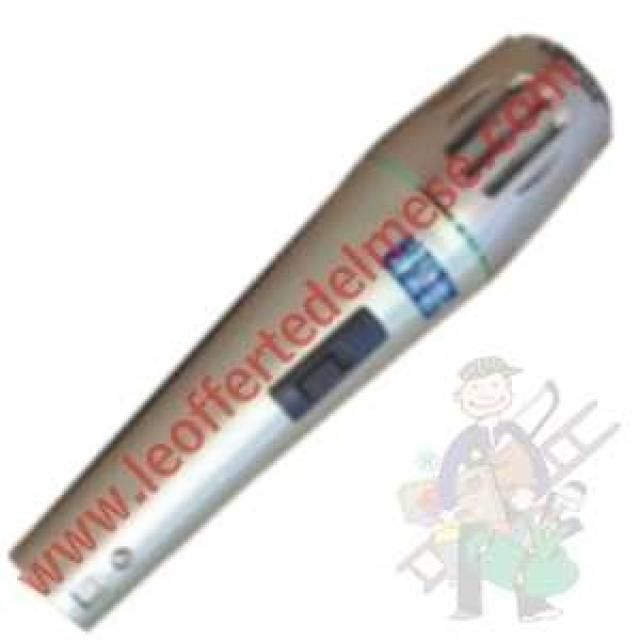microphone: (4, 35, 608, 633)
